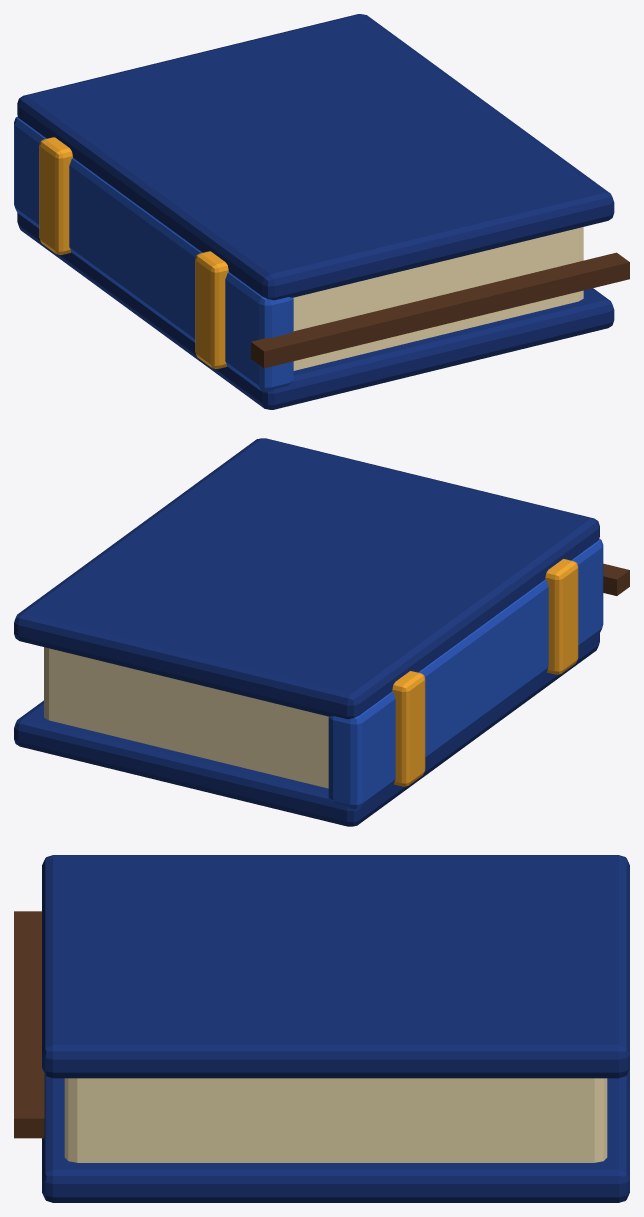
The model's file is kit_book.glb.
The picture shows the model from 3 angles, top to bottom: view 1: azimuth 30°, elevation 25°; view 2: azimuth 150°, elevation 25°; view 3: azimuth 270°, elevation 25°; orthographic projection. The views are drawn at different scales.
Visible parts, largest first — view 1: Blue leather cover.001, Book spine, Blue leather cover, Book pages, Woodland worn prop binding, Gold book clasp.001, Gold book clasp; view 2: Blue leather cover.001, Book pages, Book spine, Blue leather cover, Gold book clasp.001, Gold book clasp, Woodland worn prop binding; view 3: Blue leather cover.001, Book pages, Blue leather cover, Woodland worn prop binding.
Part boxes in pixels (left/top/right/bottom): Blue leather cover.001: left=17, top=14, right=614, bottom=300; Book spine: left=14, top=116, right=293, bottom=391; Blue leather cover: left=17, top=213, right=614, bottom=409; Book pages: left=293, top=227, right=583, bottom=370; Woodland worn prop binding: left=251, top=252, right=629, bottom=368; Gold book clasp.001: left=39, top=137, right=72, bottom=254; Gold book clasp: left=195, top=251, right=228, bottom=368; Blue leather cover.001: left=14, top=438, right=599, bottom=719; Book pages: left=44, top=647, right=328, bottom=788; Book spine: left=328, top=538, right=603, bottom=809; Blue leather cover: left=14, top=633, right=599, bottom=826; Gold book clasp.001: left=392, top=671, right=425, bottom=786; Gold book clasp: left=545, top=559, right=578, bottom=674; Woodland worn prop binding: left=603, top=563, right=629, bottom=595; Blue leather cover.001: left=42, top=855, right=629, bottom=1078; Book pages: left=64, top=1078, right=607, bottom=1162; Blue leather cover: left=42, top=1068, right=629, bottom=1202; Woodland worn prop binding: left=14, top=911, right=44, bottom=1138.
Bounding box in the file's own units: 0.271 × 0.096 × 0.3405.
